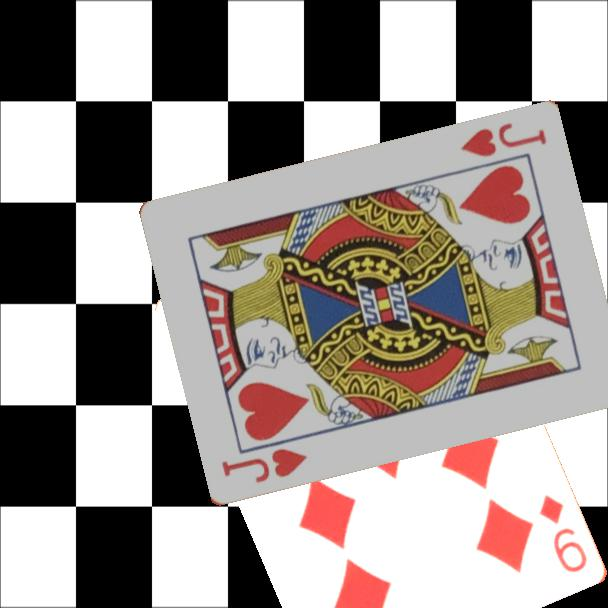d09: (536, 491, 591, 576)
h11: (218, 445, 310, 487), (456, 120, 550, 161)
